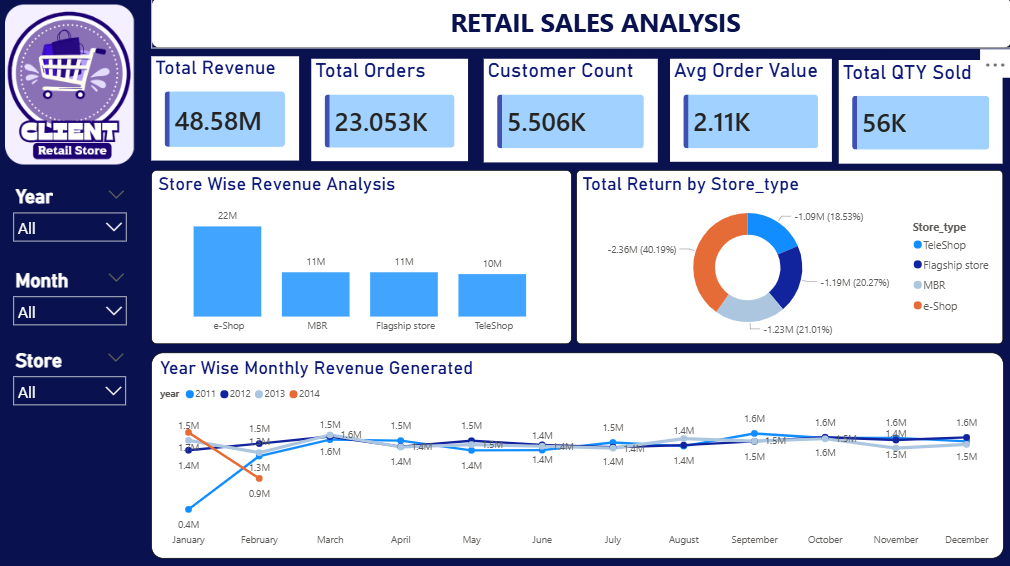

Layout of this report page (visuals, bound fields, positions):
{"tool":"powerbi","page":{"name":"Retail Sale Analysis","canvas":[1280,720],"ordinal":1},"visuals":[{"type":"cardVisual","title":"Total Revenue","fields":{"Data":["Sum(Transactions.total_amt)"]},"box":[194.9,76.9,184.6,130.8],"z":0},{"type":"cardVisual","title":"Total Orders","fields":{"Data":["CountNonNull(Transactions.cust_id)"]},"box":[394.9,79.5,196.2,128.2],"z":1000},{"type":"cardVisual","title":"Customer Count","fields":{"Data":["Count(Transactions.cust_id)"]},"box":[611.5,79.5,217.9,129.5],"z":2000},{"type":"cardVisual","title":"Avg Order Value","fields":{"Data":["Avg(Transactions.total_amt)"]},"box":[843,79.1,202.3,129.1],"z":3000},{"type":"cardVisual","title":"Total QTY Sold","fields":{"Data":["Sum(Transactions.Qty)"]},"box":[1055.1,80.8,205.1,129.5],"z":4000},{"type":"columnChart","title":"Store Wise Revenue Analysis","fields":{"Category":["Transactions.Store_type"],"Y":["Transactions.totalSale"]},"box":[195.3,218.6,525.6,217.4],"z":5000},{"type":"donutChart","title":"Total Return by Store_type","fields":{"Category":["Transactions.Store_type"],"Y":["Transactions.Total Return"]},"box":[726.7,218.6,533.7,217.4],"z":6000},{"type":"lineChart","title":"Year Wise Monthly Revenue Generated","fields":{"Y":["Transactions.totalSale"],"Series":["Transactions.year"],"Category":["Transactions.tran_date.Variation.Date Hierarchy.Month"]},"box":[194.9,446.2,1065.4,257.7],"z":7000},{"type":"textbox","box":[194.9,3.8,1075.6,62.8],"z":8000},{"type":"image","box":[12.3,4.1,161.9,214.1],"z":9000},{"type":"slicer","fields":{"Values":["Transactions.year"]},"box":[12.3,233.3,161.9,81],"z":10000},{"type":"slicer","fields":{"Values":["Transactions.tran_date.Variation.Date Hierarchy.Month"]},"box":[12.3,337.6,161.9,81],"z":11000},{"type":"slicer","fields":{"Values":["Transactions.Store_type"]},"box":[12.8,437.2,161.5,80.8],"z":12000}]}

Visuals, with their boxes in screenshot pixels (x1, y1, x2, y2), scaled from the page's 1280x720 canvas onto the 1010x566 screenshot:
"Total Revenue" cardVisual: select_region(154, 60, 299, 163)
"Total Orders" cardVisual: select_region(312, 62, 466, 163)
"Customer Count" cardVisual: select_region(483, 62, 654, 164)
"Avg Order Value" cardVisual: select_region(665, 62, 825, 164)
"Total QTY Sold" cardVisual: select_region(833, 64, 994, 165)
"Store Wise Revenue Analysis" columnChart: select_region(154, 172, 569, 343)
"Total Return by Store_type" donutChart: select_region(573, 172, 995, 343)
"Year Wise Monthly Revenue Generated" lineChart: select_region(154, 351, 994, 553)
textbox: select_region(154, 3, 1003, 52)
image: select_region(10, 3, 137, 172)
slicer - Transactions.year: select_region(10, 183, 137, 247)
slicer - Transactions.tran_date.Variation.Date Hierarchy.Month: select_region(10, 265, 137, 329)
slicer - Transactions.Store_type: select_region(10, 344, 138, 407)
